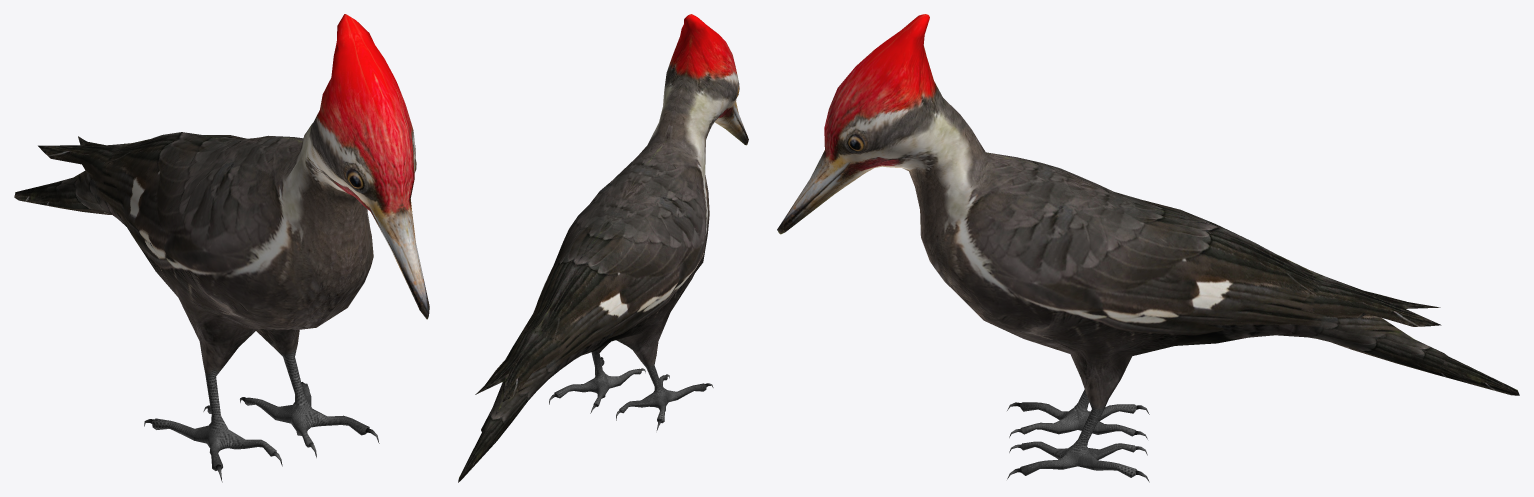
The model's file is woodpecker.glb.
The picture shows the model from 3 angles, left to right: view 1: azimuth 30°, elevation 25°; view 2: azimuth 150°, elevation 25°; view 3: azimuth 270°, elevation 25°; orthographic projection. The views are drawn at different scales.
Parts seen in each view (by area): view 1: pileated_woodpecker_Material #2_0_5; view 2: pileated_woodpecker_Material #2_0_5; view 3: pileated_woodpecker_Material #2_0_5.
Part boxes in pixels (box(x1,y1,x2,y2)): pileated_woodpecker_Material #2_0_5: box(14, 14, 429, 482); pileated_woodpecker_Material #2_0_5: box(458, 14, 748, 482); pileated_woodpecker_Material #2_0_5: box(777, 14, 1519, 482).
Size of the model in its own units: 0.2521 by 0.6792 by 1.05.
1 material, 1 textured.
